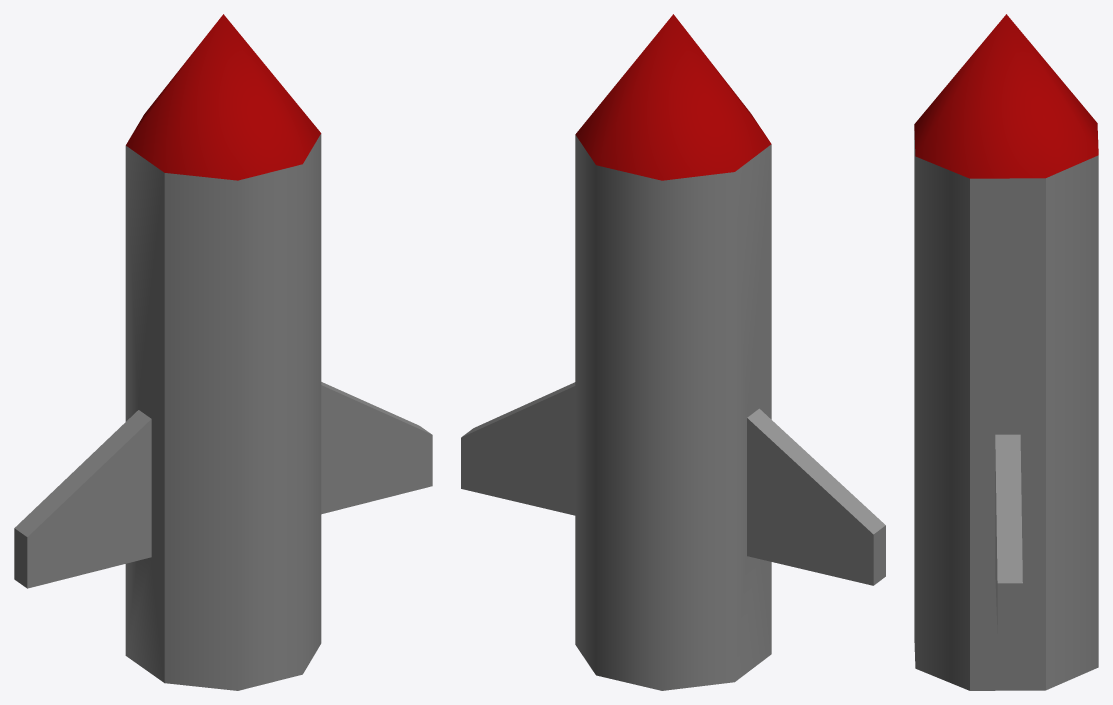
File: Projectile_Missile.FBX
3 views of the same model, side by side, from view 1: azimuth 30°, elevation 25°; view 2: azimuth 150°, elevation 25°; view 3: azimuth 270°, elevation 25° (orthographic).
Parts seen in each view (by area): view 1: Cone017; view 2: Cone017; view 3: Cone017.
Boxes of the visible parts, x1=… form: Cone017: x1=14, y1=14, x2=432, y2=690; Cone017: x1=461, y1=14, x2=885, y2=690; Cone017: x1=914, y1=14, x2=1098, y2=690.
Bounding box in the file's own units: 39.29 × 58.32 × 15.28.
